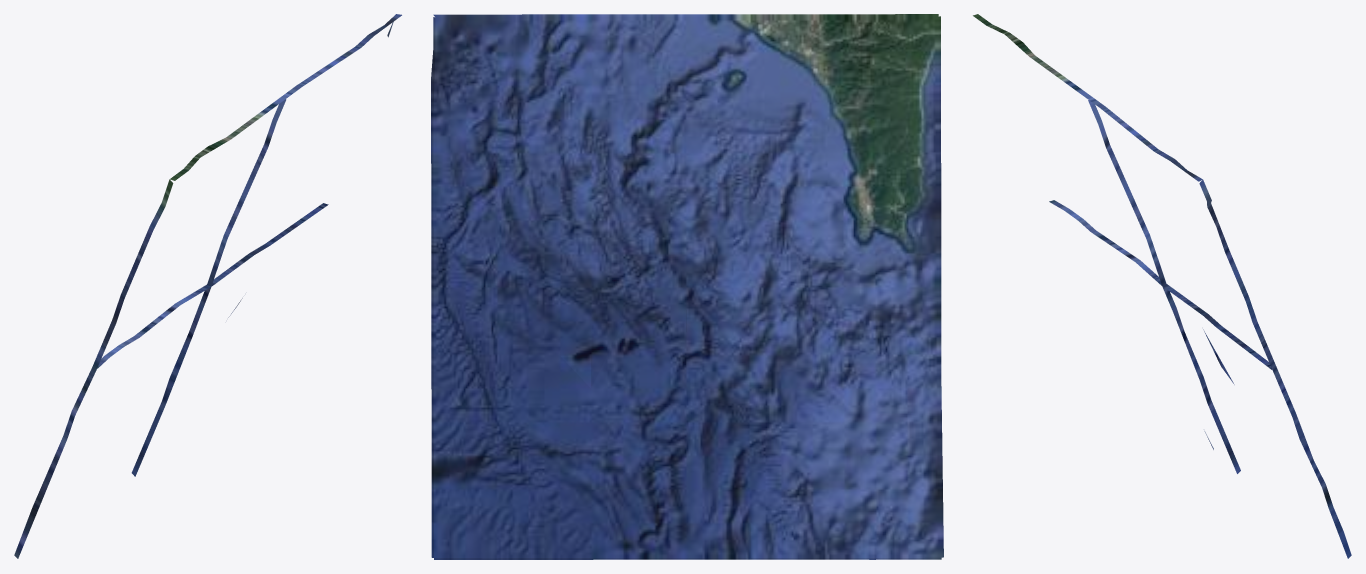
3 views of the same model, side by side, from view 1: azimuth 30°, elevation 25°; view 2: azimuth 150°, elevation 25°; view 3: azimuth 270°, elevation 25° (orthographic). The views are drawn at different scales.
Bounding box in the file's own units: 156528 × 148466 × 122410.
1 material, 1 textured.
